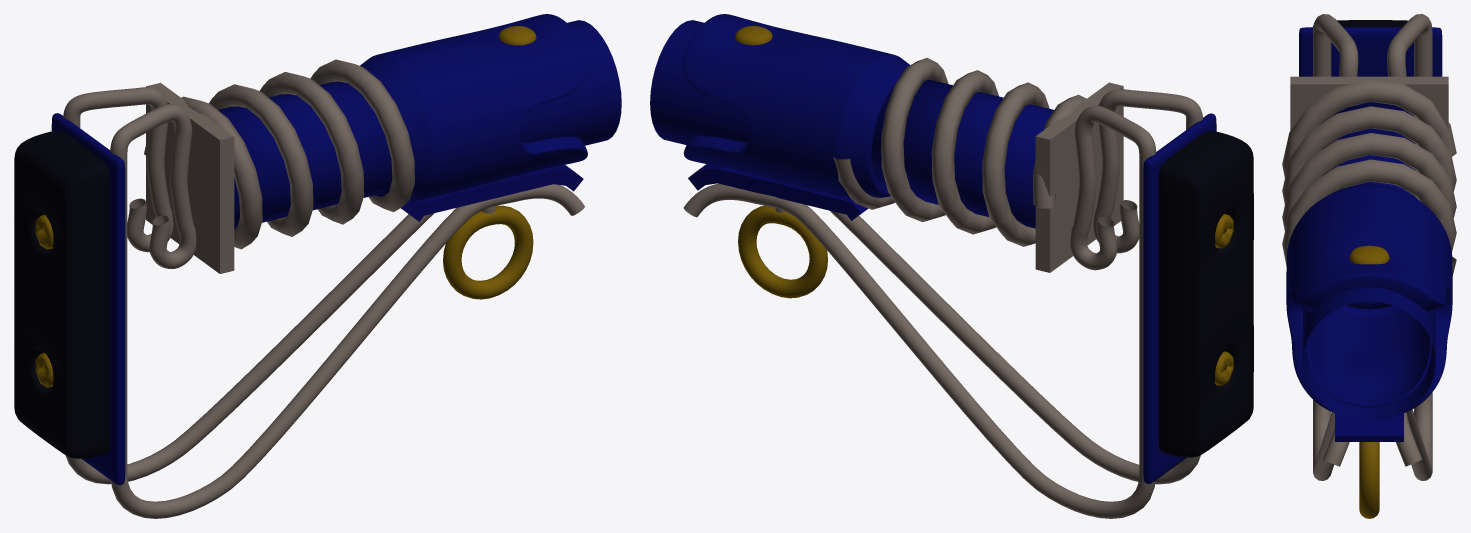
The model's file is stock_06.fbx.
The picture shows the model from 3 angles, left to right: view 1: azimuth 30°, elevation 25°; view 2: azimuth 150°, elevation 25°; view 3: azimuth 270°, elevation 25°; orthographic projection. The views are drawn at different scales.
Visible parts, largest first — view 1: Cylinder.013; view 2: Cylinder.013; view 3: Cylinder.013.
Part boxes in pixels (bbox=[...]): Cylinder.013: bbox=[14, 14, 621, 518]; Cylinder.013: bbox=[650, 14, 1253, 518]; Cylinder.013: bbox=[1282, 14, 1456, 518].
Bounding box in the file's own units: 61.45 × 42.7 × 15.73.
